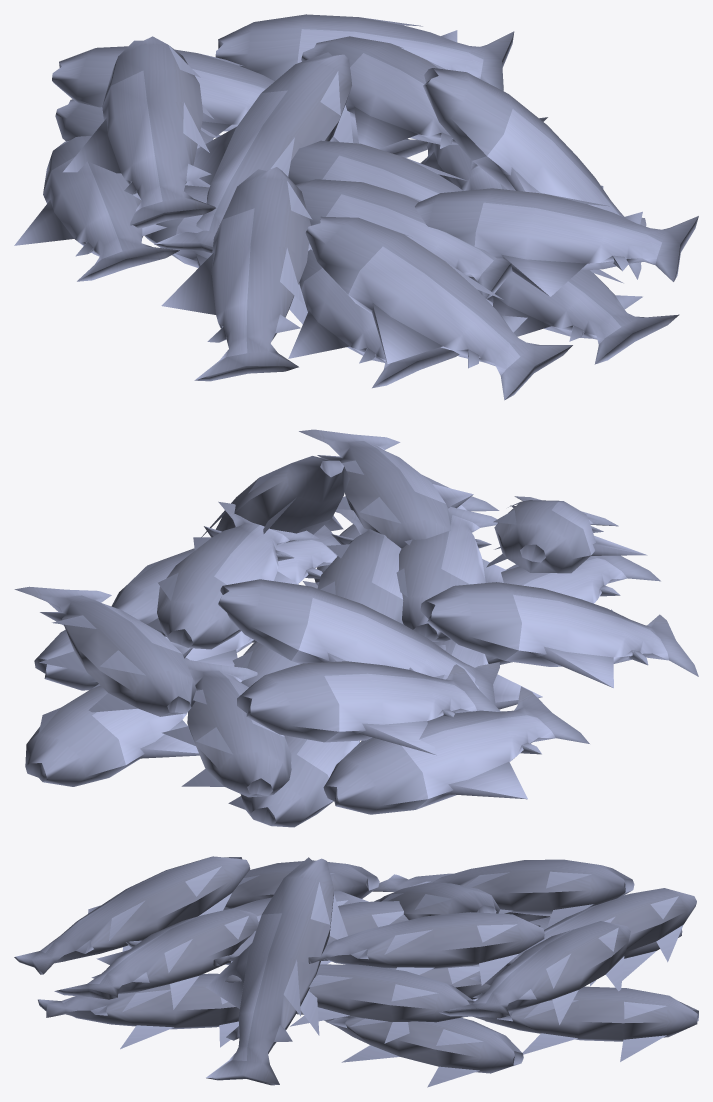
Rendered from stallDisplayFish.fbx.
3 views of the same model, one above another, from view 1: azimuth 30°, elevation 25°; view 2: azimuth 150°, elevation 25°; view 3: azimuth 270°, elevation 25° (orthographic). The views are drawn at different scales.
Visible parts, largest first — view 1: stallDisplayFish; view 2: stallDisplayFish; view 3: stallDisplayFish.
Boxes of the visible parts, x1,y1,x2,y2 form: stallDisplayFish: [14, 14, 698, 400]; stallDisplayFish: [14, 429, 698, 827]; stallDisplayFish: [14, 856, 698, 1087].
Size of the model in its own units: 0.6178 by 0.8632 by 0.2278.
